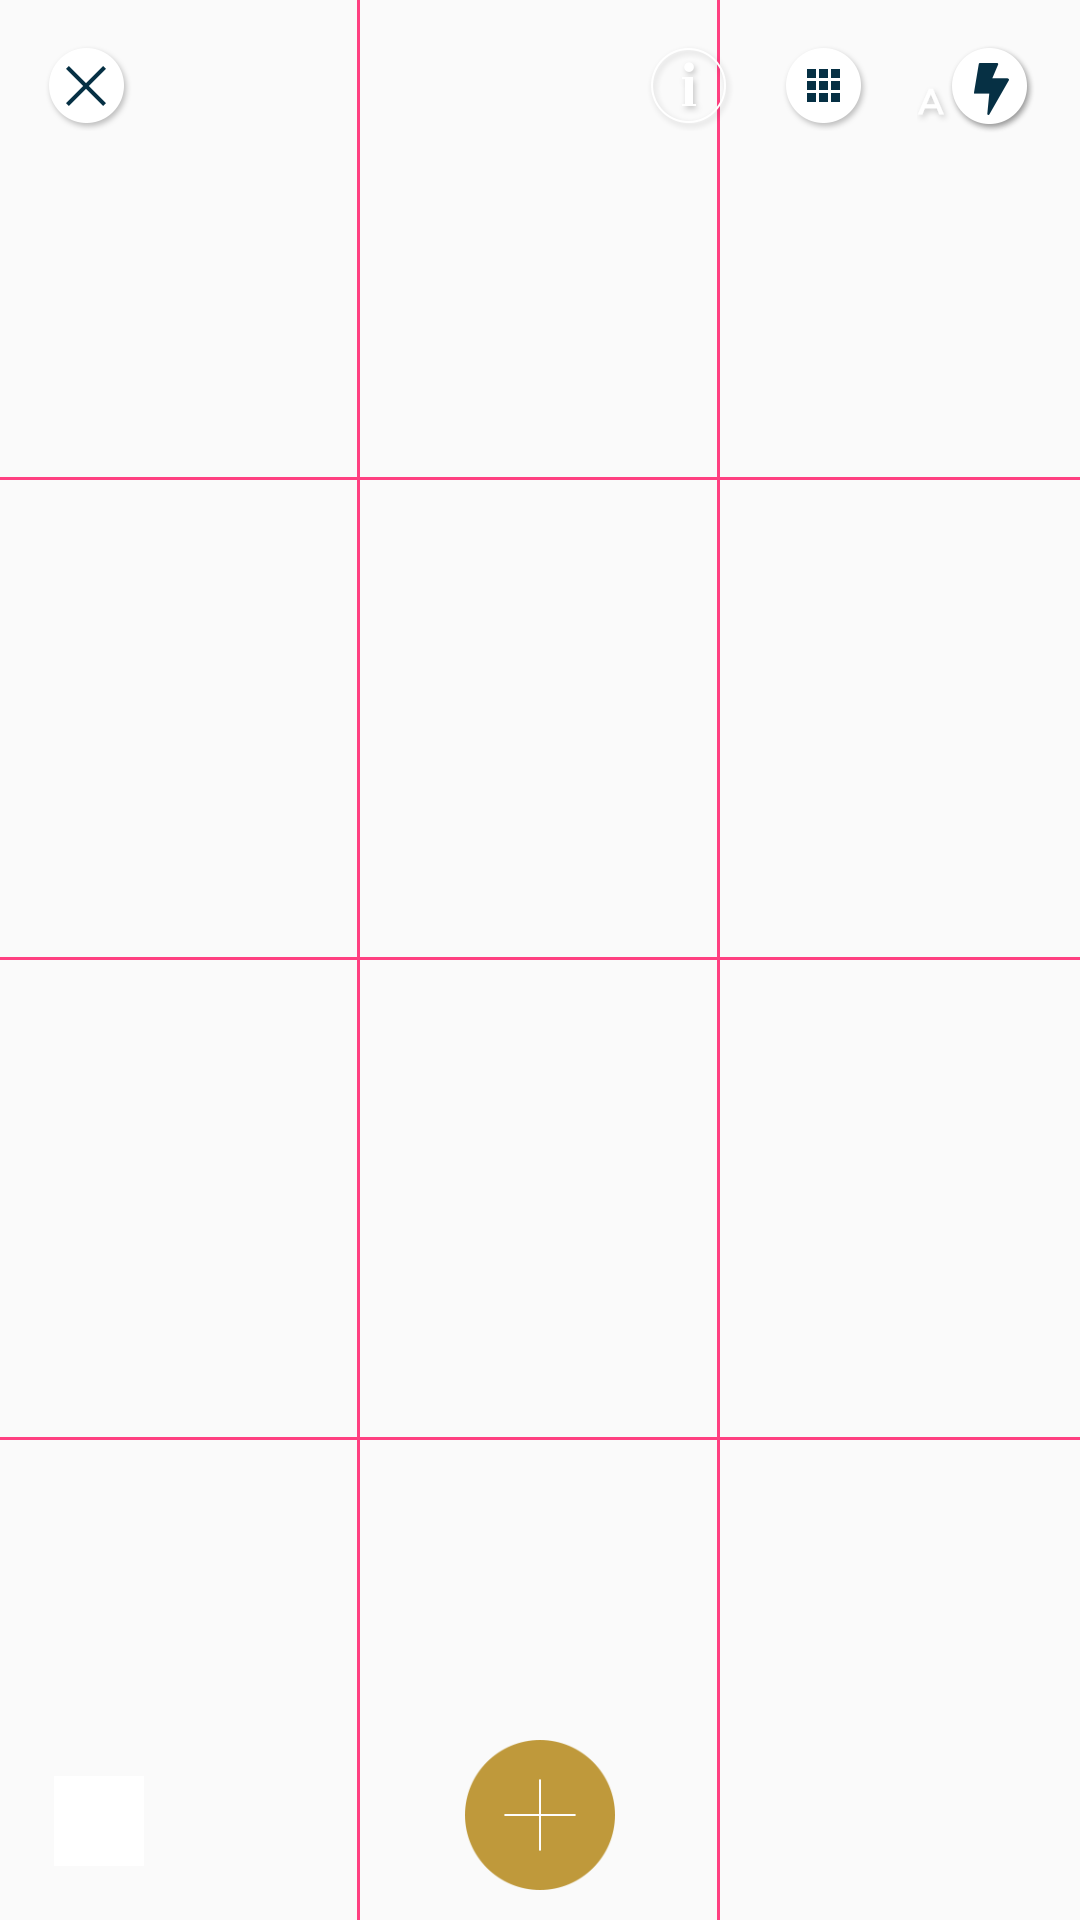

Point at icon controls on the screen. Image size 1080 × 1920, points as (x=x, y=y).
capture close: (x=91, y=96)
capture flash on auto: (x=977, y=91)
capture grid on: (x=828, y=96)
custom capture: (x=540, y=1815)
